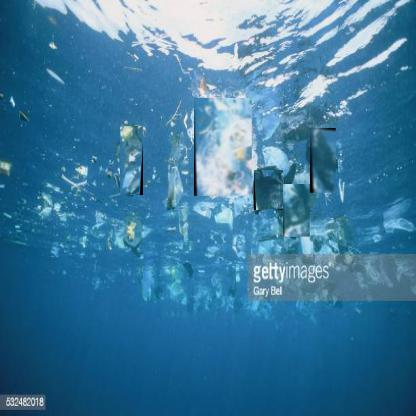waste: (194, 98, 253, 197), (310, 128, 337, 194), (120, 126, 144, 196), (283, 184, 311, 238), (254, 170, 284, 211)
